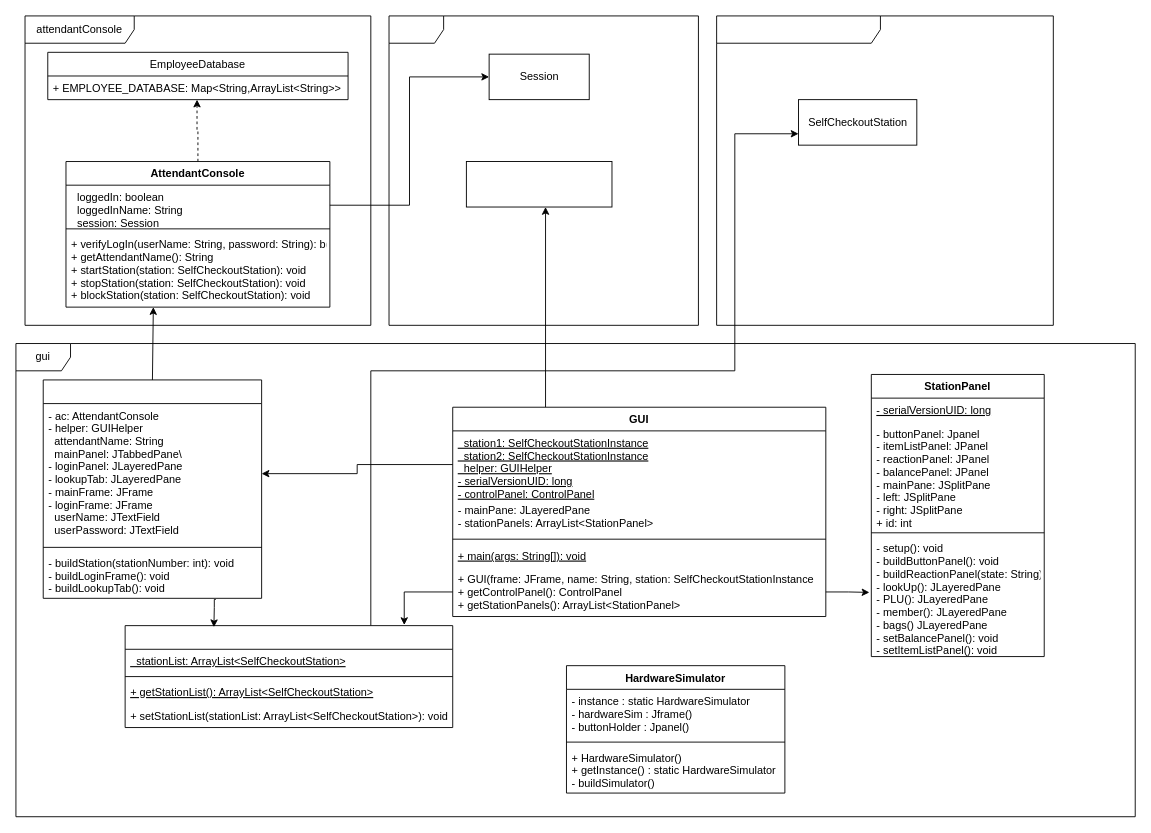
This 1151x833 diagram has some shape labels left out. Each missing label, with the box of its shape:
ControlPanel: (42, 379, 262, 598)
GUIHelper: (124, 625, 453, 728)
org.lsmr.selfhcheckout.devices: (716, 15, 1053, 325)
SelfCheckoutStationInstance: (465, 161, 612, 207)
unsorted: (388, 15, 698, 325)
